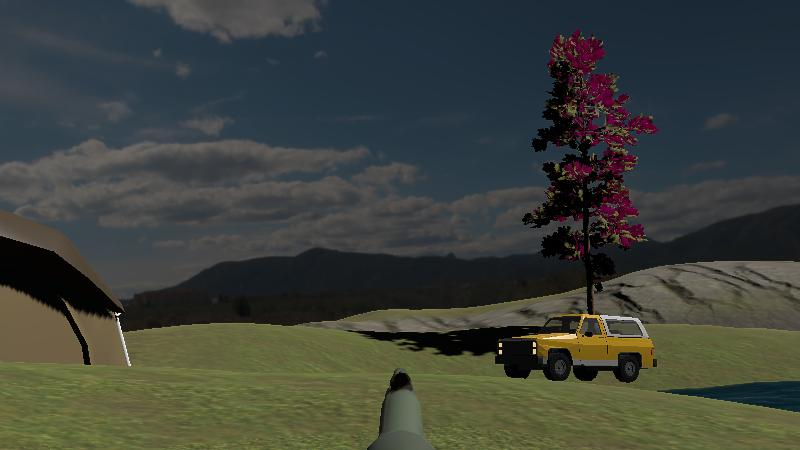car: (493, 309, 659, 385)
